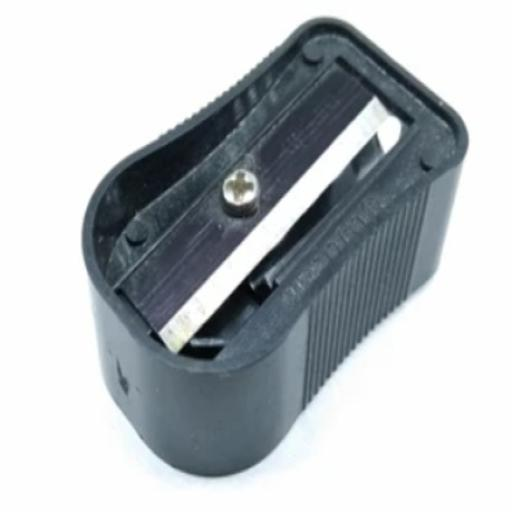sharpener: (5, 4, 512, 502)
